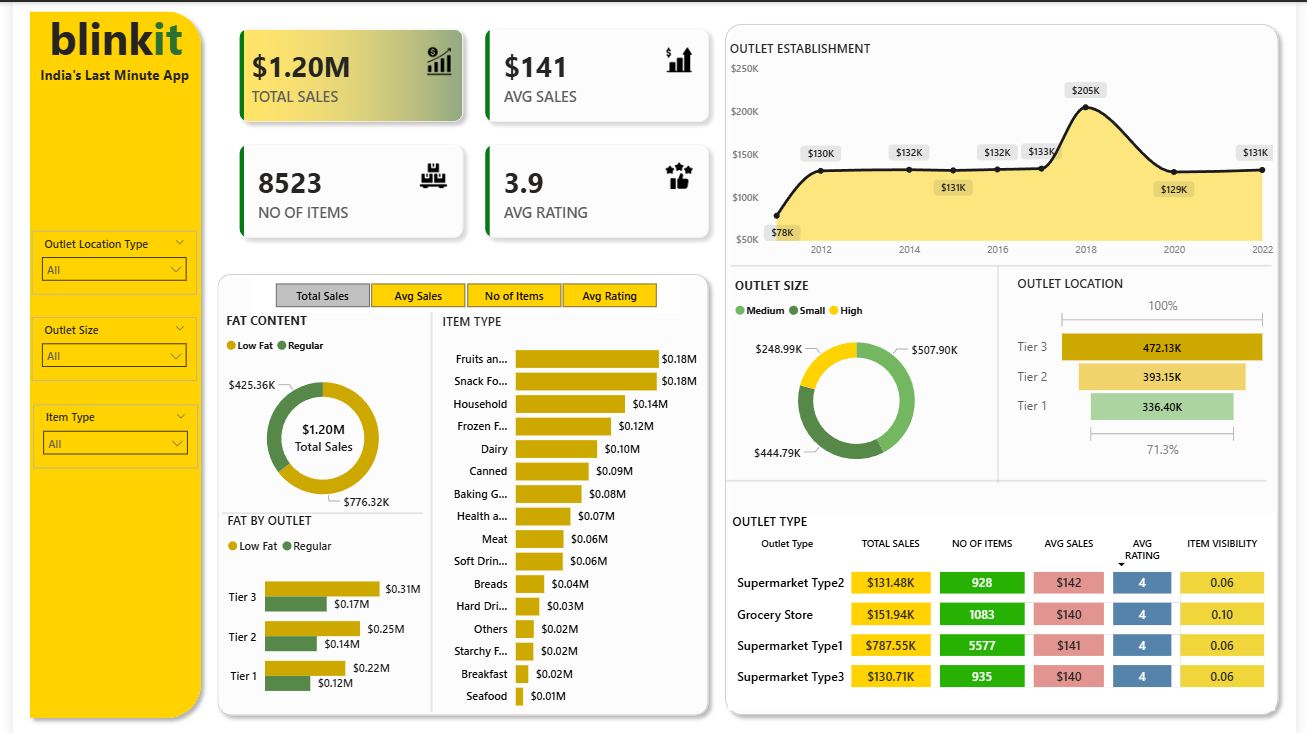

What the dashboard file says about the page in this screenshot:
{"tool":"powerbi","page":{"name":"Page 1","canvas":[1400,800],"ordinal":0},"visuals":[{"type":"shape","box":[10.2,1.5,204.4,788.5],"z":0},{"type":"textbox","box":[24.5,64.1,173.1,30],"z":1000},{"type":"textbox","box":[24,1.5,175.6,78],"z":2000},{"type":"cardVisual","fields":{"Data":["BlinkIT Grocery Data.Total Sales","BlinkIT Grocery Data.Avg Sales","BlinkIT Grocery Data.No of Items","BlinkIT Grocery Data.Avg Rating"]},"box":[218.1,0,571.2,287.7],"z":3000},{"type":"shape","box":[214.6,287.7,553.4,499.4],"z":4000},{"type":"donutChart","title":"FAT CONTENT","fields":{"Y":["BlinkIT Grocery Data.Total Sales"],"Category":["BlinkIT Grocery Data.Item Fat Content"]},"box":[227.7,338.1,220.9,230.4],"z":5000},{"type":"slicer","fields":{"Values":["Matrics.Matrics"]},"box":[259.9,299.3,465.8,39.4],"z":6000},{"type":"cardVisual","fields":{"Data":["BlinkIT Grocery Data.Total Sales"]},"box":[270.1,433.7,138.7,81.8],"z":7000},{"type":"clusteredBarChart","title":"FAT BY OUTLET","fields":{"Y":["BlinkIT Grocery Data.Total Sales"],"Category":["BlinkIT Grocery Data.Outlet Location Type"],"Series":["BlinkIT Grocery Data.Item Fat Content"]},"box":[229,556.2,220.9,219.5],"z":8000},{"type":"shape","box":[227.7,537.2,219.5,40.9],"z":9000},{"type":"shape","box":[449.7,338.8,13.1,436.6],"z":10000},{"type":"barChart","title":"ITEM TYPE","fields":{"Y":["BlinkIT Grocery Data.Total Sales"],"Category":["BlinkIT Grocery Data.Item Type"]},"box":[463.5,339.5,287.7,443.1],"z":11000},{"type":"shape","box":[767.6,15,621.7,771.6],"z":12000},{"type":"lineChart","title":"OUTLET ESTABLISHMENT","fields":{"Y":["BlinkIT Grocery Data.Total Sales"],"Category":["BlinkIT Grocery Data.Outlet Establishment Year"]},"box":[777.1,40.9,602.6,246.8],"z":13000},{"type":"shape","box":[782.6,272.7,590.3,30],"z":14000},{"type":"donutChart","title":"OUTLET SIZE","fields":{"Y":["BlinkIT Grocery Data.Total Sales"],"Category":["BlinkIT Grocery Data.Outlet Size"]},"box":[782.6,299.9,275,225],"z":15000},{"type":"shape","box":[1057.9,287.7,32.7,237.2],"z":16000},{"type":"funnel","title":"OUTLET LOCATION","fields":{"Y":["Sum(BlinkIT Grocery Data.Sales)"],"Category":["BlinkIT Grocery Data.Outlet Location Type"]},"box":[1090.7,297.2,282.2,205.9],"z":17000},{"type":"shape","box":[777.1,507.2,590.3,30],"z":18000},{"type":"pivotTable","title":"OUTLET TYPE","fields":{"Values":["BlinkIT Grocery Data.Total Sales","BlinkIT Grocery Data.No of Items","BlinkIT Grocery Data.Avg Sales","BlinkIT Grocery Data.Avg Rating","Avg(BlinkIT Grocery Data.Item Visibility)"],"Rows":["BlinkIT Grocery Data.Outlet Type"]},"box":[779.8,557.6,597.1,215.4],"z":19000},{"type":"slicer","fields":{"Values":["BlinkIT Grocery Data.Outlet Location Type"]},"box":[20.5,249.5,180,69.5],"z":20000},{"type":"slicer","fields":{"Values":["BlinkIT Grocery Data.Outlet Size"]},"box":[20.5,343.6,180,69.5],"z":21000},{"type":"slicer","fields":{"Values":["BlinkIT Grocery Data.Item Type"]},"box":[21.8,439,180,69.5],"z":21001}]}

Visuals, with their boxes in screenshot pixels (x1, y1, x2, y2), scaled from the page's 1400x800 canvas onto the 1307x733 screenshot:
shape: crop(10, 1, 200, 724)
textbox: crop(23, 59, 184, 86)
textbox: crop(22, 1, 186, 73)
cardVisual - BlinkIT Grocery Data.Total Sales x BlinkIT Grocery Data.Avg Sales: crop(204, 0, 737, 264)
shape: crop(200, 264, 717, 721)
"FAT CONTENT" donutChart: crop(213, 310, 419, 521)
slicer - Matrics.Matrics: crop(243, 274, 677, 310)
cardVisual - BlinkIT Grocery Data.Total Sales: crop(252, 397, 382, 472)
"FAT BY OUTLET" clusteredBarChart: crop(214, 510, 420, 711)
shape: crop(213, 492, 417, 530)
shape: crop(420, 310, 432, 710)
"ITEM TYPE" barChart: crop(433, 311, 701, 717)
shape: crop(717, 14, 1297, 721)
"OUTLET ESTABLISHMENT" lineChart: crop(725, 37, 1288, 264)
shape: crop(731, 250, 1282, 277)
"OUTLET SIZE" donutChart: crop(731, 275, 987, 481)
shape: crop(988, 264, 1018, 481)
"OUTLET LOCATION" funnel: crop(1018, 272, 1282, 461)
shape: crop(725, 465, 1277, 492)
"OUTLET TYPE" pivotTable: crop(728, 511, 1285, 708)
slicer - BlinkIT Grocery Data.Outlet Location Type: crop(19, 229, 187, 292)
slicer - BlinkIT Grocery Data.Outlet Size: crop(19, 315, 187, 379)
slicer - BlinkIT Grocery Data.Item Type: crop(20, 402, 188, 466)
